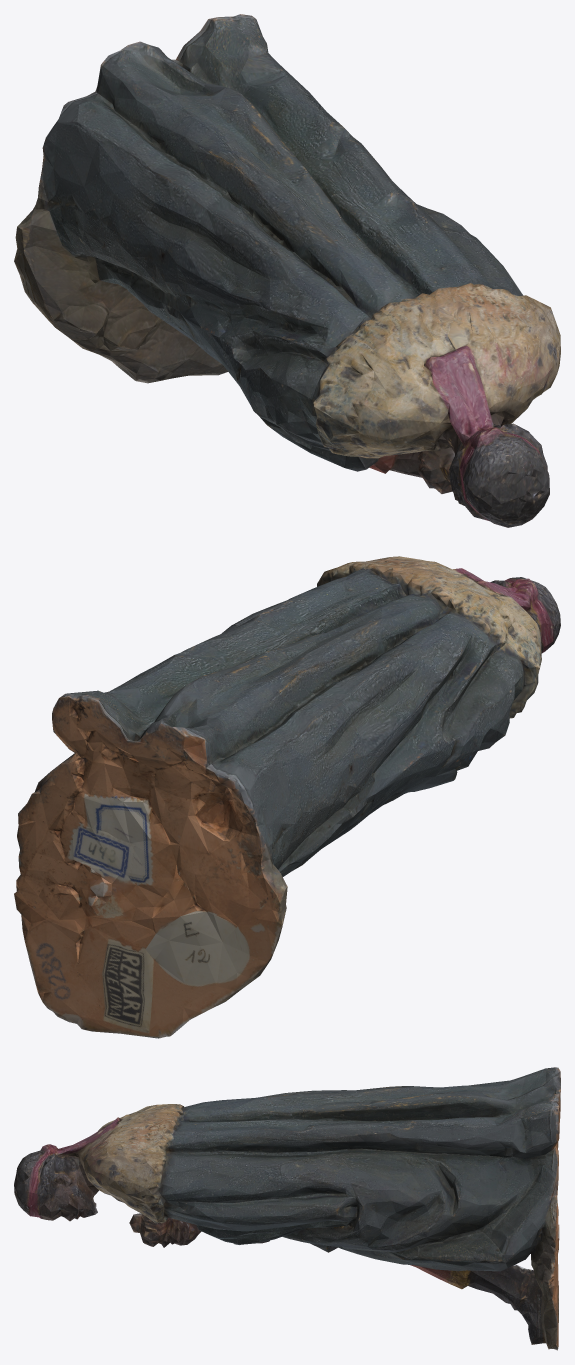
File: baltasarBaixRes.obj
3 renders of one model, top to bottom at view 1: azimuth 30°, elevation 25°; view 2: azimuth 150°, elevation 25°; view 3: azimuth 270°, elevation 25°, orthographic. The views are drawn at different scales.
Visible parts, largest first — view 1: MCGO12000-280_low; view 2: MCGO12000-280_low; view 3: MCGO12000-280_low.
Boxes of the visible parts, bbox=[...] form: MCGO12000-280_low: bbox=[14, 14, 560, 527]; MCGO12000-280_low: bbox=[14, 556, 560, 1038]; MCGO12000-280_low: bbox=[14, 1067, 560, 1350].
Bounding box in the file's own units: 0.092 × 0.1035 × 0.2073.
Materials: 1 (1 with a texture image).
